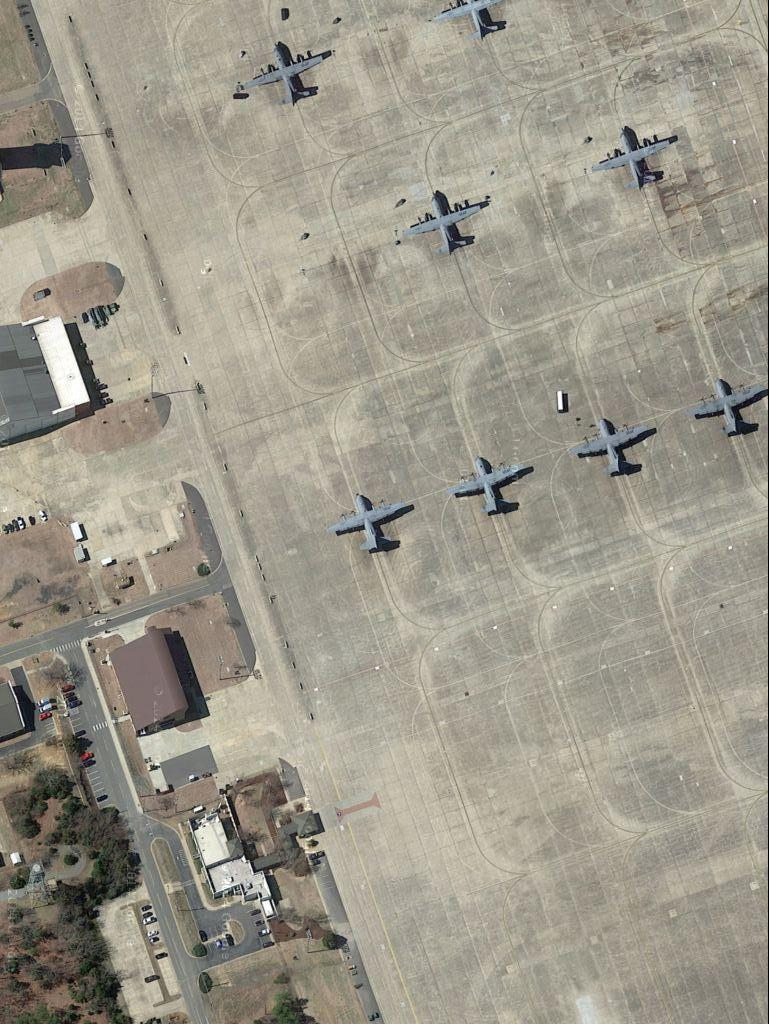C-130: (573, 408, 657, 481), (331, 489, 416, 561), (249, 40, 332, 113), (595, 125, 676, 198), (408, 192, 490, 262), (449, 454, 529, 521), (692, 372, 766, 443)
